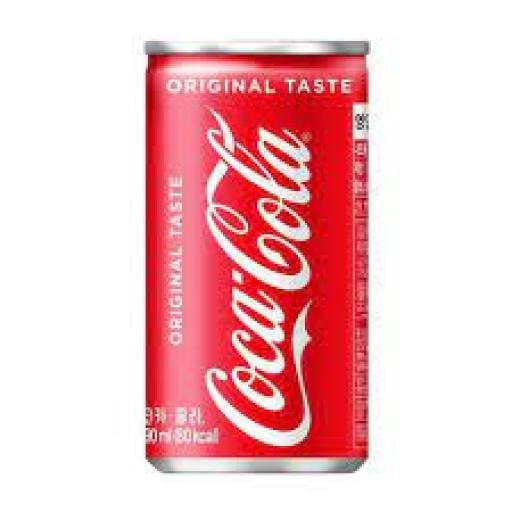Coca: (139, 21, 374, 476)
